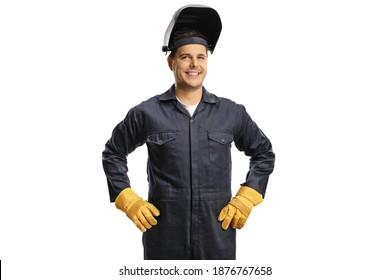gloves: (217, 185, 266, 229), (114, 187, 161, 231)
